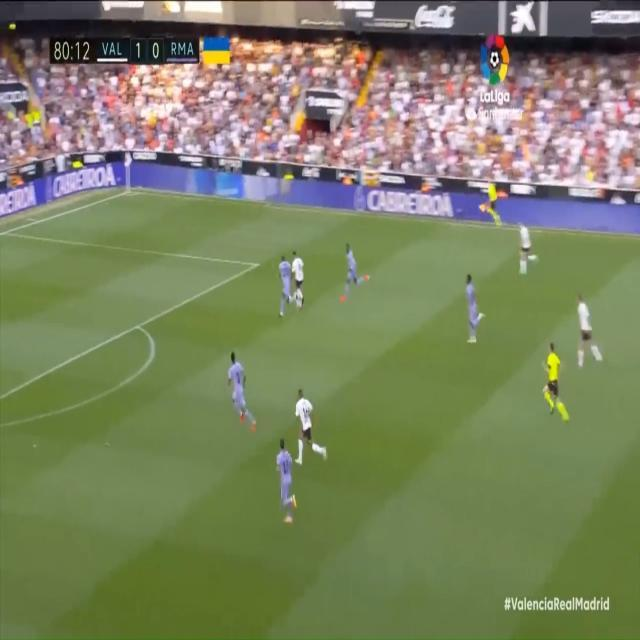player: (293, 387, 329, 465), (225, 347, 257, 434), (274, 431, 300, 529), (575, 291, 604, 371), (463, 263, 486, 348), (516, 214, 541, 280), (340, 241, 366, 302), (290, 245, 309, 309), (276, 249, 292, 320)
referee: (544, 339, 568, 421), (484, 175, 502, 227)
